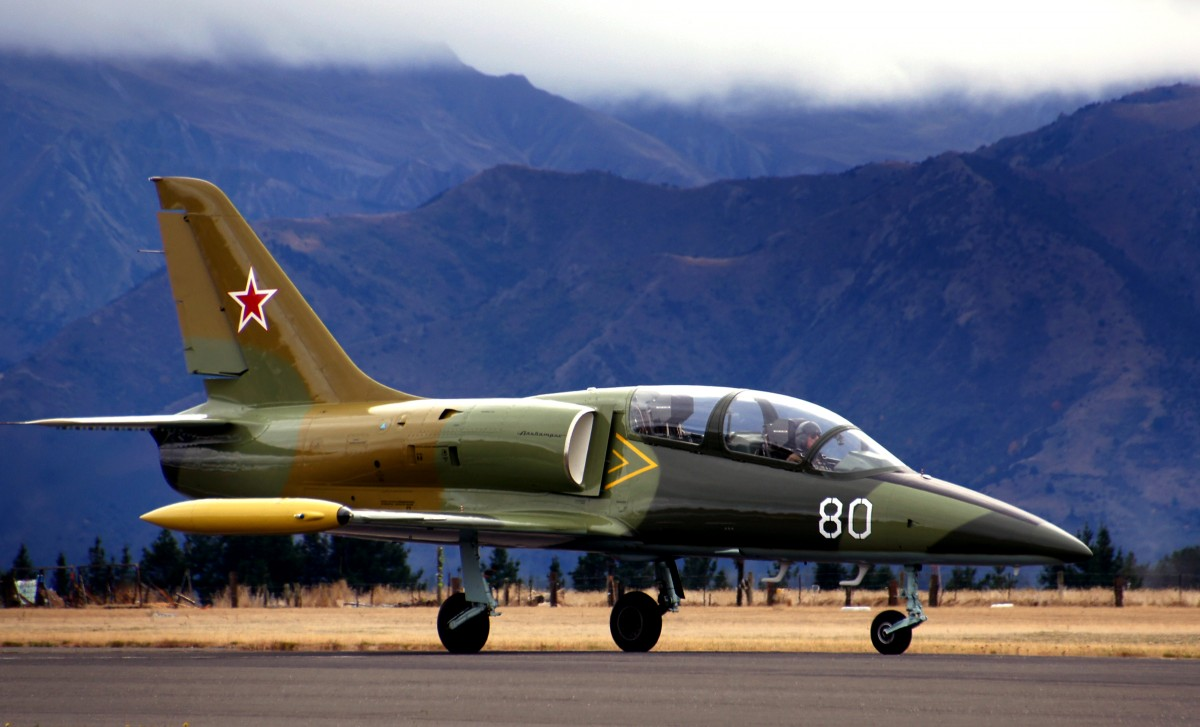Aeronef_militaire: (6, 172, 1106, 663)
